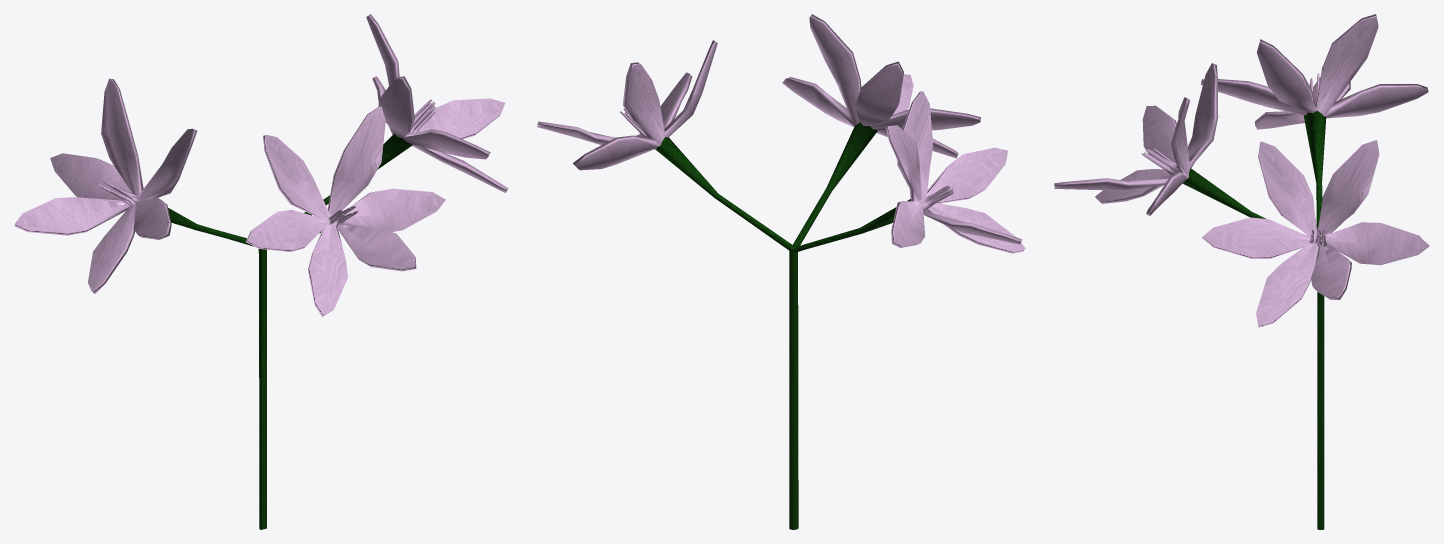
The model's file is pinkflower.fbx.
3 views of the same model, side by side, from view 1: azimuth 30°, elevation 25°; view 2: azimuth 150°, elevation 25°; view 3: azimuth 270°, elevation 25° (orthographic).
Parts seen in each view (by area): view 1: purpletigerlily; view 2: purpletigerlily; view 3: purpletigerlily.
Part boxes in pixels (left/top/right/bottom): purpletigerlily: left=14, top=14, right=508, bottom=529; purpletigerlily: left=537, top=14, right=1025, bottom=529; purpletigerlily: left=1054, top=14, right=1429, bottom=529.
Bounding box in the file's own units: 0.696 × 0.623 × 0.4672.
